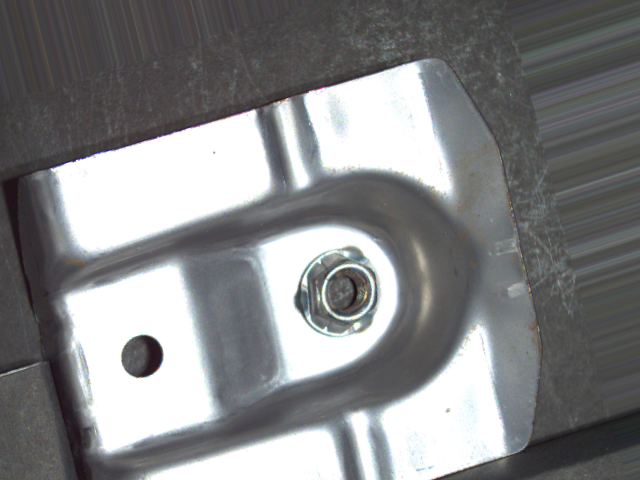good: (290, 244, 383, 339)
